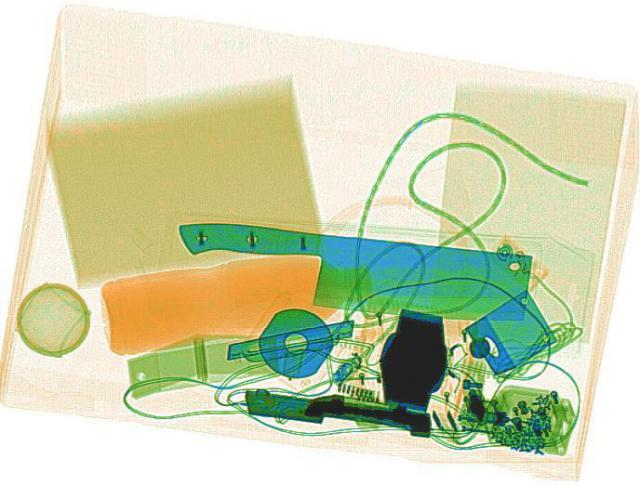Knife: (162, 214, 538, 328)
